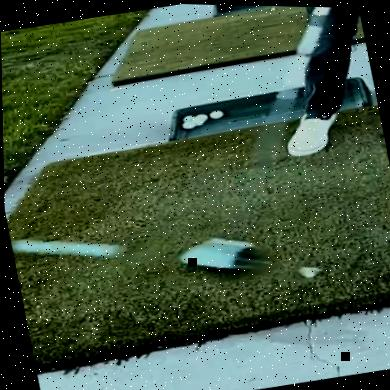ClubHead: (14, 232, 60, 263)
GolfBall: (170, 222, 270, 288)
